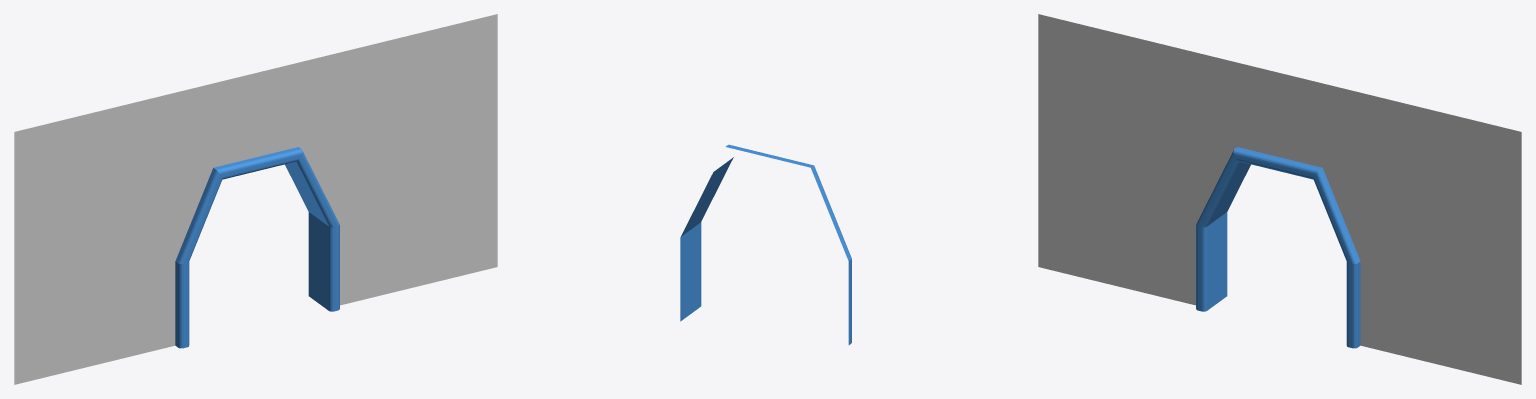
File: wall_door_8x8.glb
The picture shows the model from 3 angles, left to right: view 1: azimuth 30°, elevation 25°; view 2: azimuth 150°, elevation 25°; view 3: azimuth 330°, elevation 25°; orthographic projection.
Visible parts, largest first — view 1: Wall_8_Door; view 2: Wall_8_Door; view 3: Wall_8_Door.
Part boxes in pixels (x1,y1,x2,y2): Wall_8_Door: (14, 14, 497, 384); Wall_8_Door: (680, 144, 851, 344); Wall_8_Door: (1038, 14, 1521, 384).
Size of what is drawn, in the model's own units: 8 by 4 by 0.6352.
